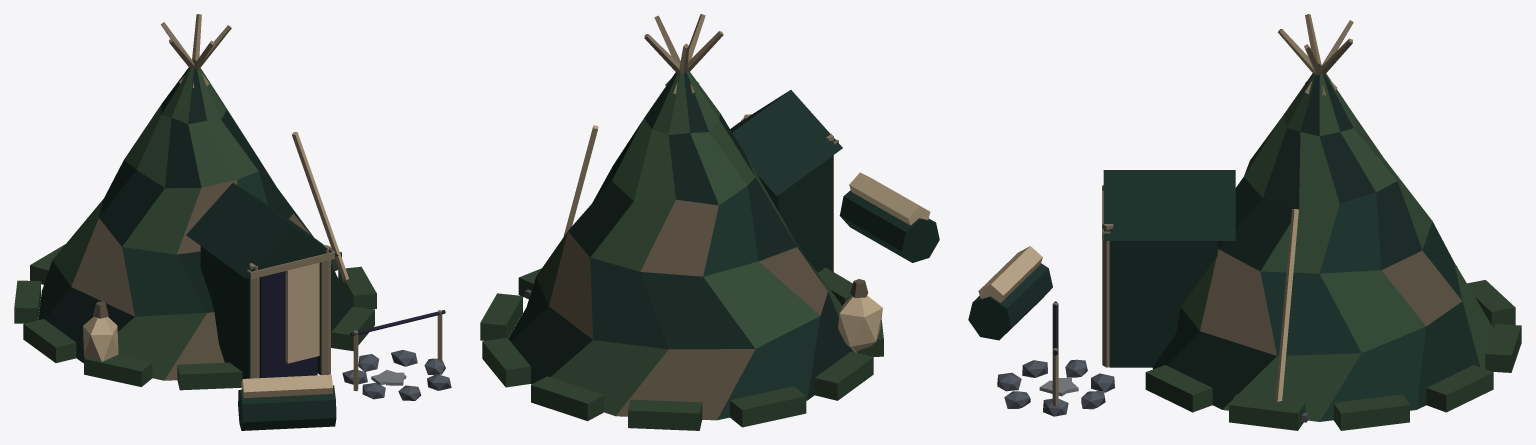
Rendered from collier_hut.glb.
3 renders of one model, left to right at view 1: azimuth 30°, elevation 25°; view 2: azimuth 150°, elevation 25°; view 3: azimuth 270°, elevation 25°, orthographic. The views are drawn at different scales.
Visible parts, largest first — view 1: pine_d50, pine_d55, moss_d55, driftwood_d10, driftwood_d35, ink, slate_d30, silverfog_d40; view 2: pine_d50, pine_d55, moss_d55, driftwood_d10, driftwood_d35; view 3: pine_d50, pine_d55, moss_d55, driftwood_d35, driftwood_d10, slate_d30.
Part boxes in pixels (x1=…): pine_d50: x1=38, y1=59, x2=351, y2=380; pine_d55: x1=186, y1=183, x2=338, y2=430; moss_d55: x1=14, y1=244, x2=376, y2=390; driftwood_d10: x1=83, y1=132, x2=348, y2=398; driftwood_d35: x1=161, y1=14, x2=442, y2=391; ink: x1=259, y1=271, x2=445, y2=377; slate_d30: x1=342, y1=350, x2=451, y2=400; silverfog_d40: x1=371, y1=370, x2=406, y2=385; pine_d50: x1=508, y1=72, x2=855, y2=420; pine_d55: x1=730, y1=90, x2=939, y2=272; moss_d55: x1=480, y1=267, x2=883, y2=430; driftwood_d10: x1=563, y1=125, x2=930, y2=352; driftwood_d35: x1=644, y1=14, x2=838, y2=271; pine_d50: x1=1152, y1=63, x2=1493, y2=421; pine_d55: x1=968, y1=170, x2=1235, y2=367; moss_d55: x1=1145, y1=266, x2=1521, y2=430; driftwood_d35: x1=1052, y1=14, x2=1353, y2=406; driftwood_d10: x1=978, y1=209, x2=1298, y2=401; slate_d30: x1=997, y1=359, x2=1308, y2=422.
Bounding box in the file's own units: 3.34 × 2.96 × 4.61.
